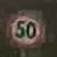limite 50: (4, 11, 43, 48)
